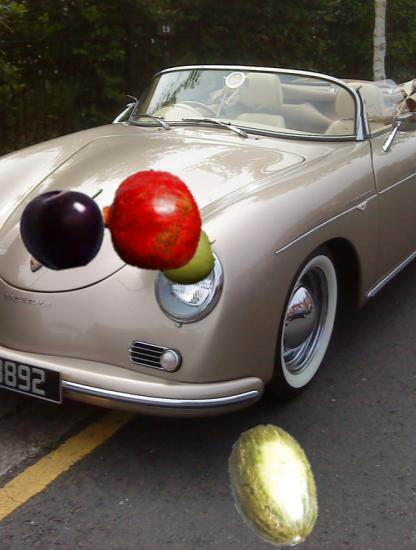Apple: (155, 223, 220, 288)
Cherry: (19, 186, 107, 274)
Melon: (211, 425, 335, 549)
Pomegranate: (100, 169, 204, 273)
